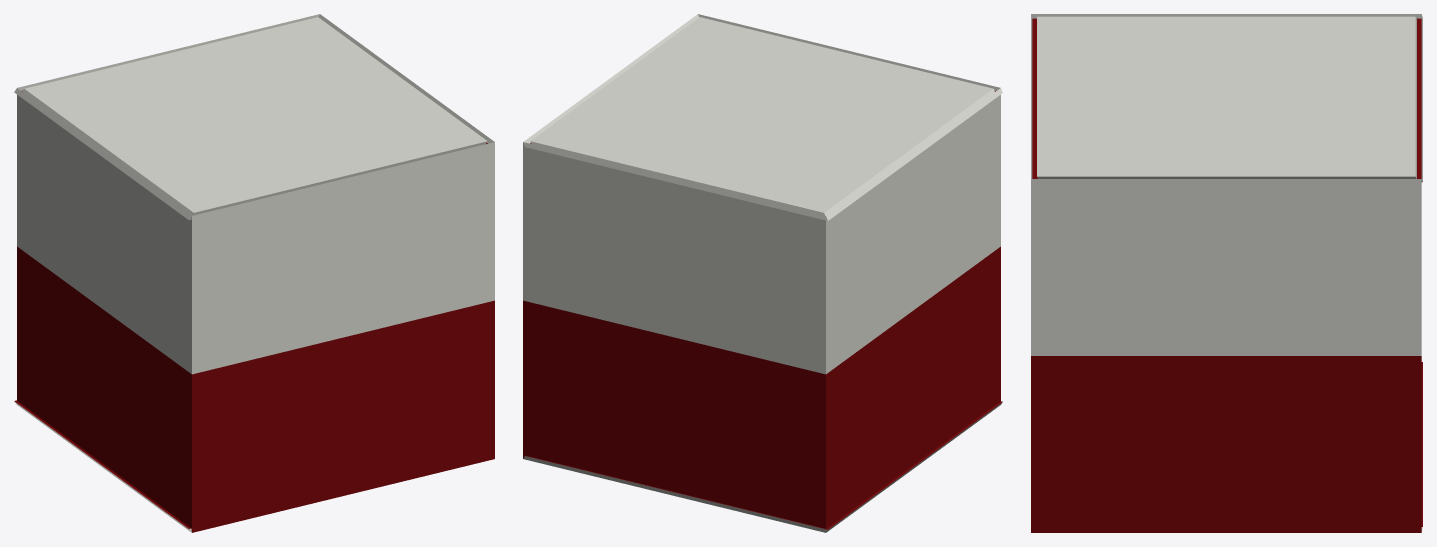
Rendered from keuken_GGJ.fbx.
3 views of the same model, side by side, from view 1: azimuth 30°, elevation 25°; view 2: azimuth 150°, elevation 25°; view 3: azimuth 270°, elevation 25° (orthographic). The views are drawn at different scales.
Parts seen in each view (by area): view 1: Cube; view 2: Cube; view 3: Cube.
Boxes of the visible parts, <box> form: Cube: <box>14,14,494,532</box>; Cube: <box>523,14,1002,532</box>; Cube: <box>1031,14,1422,532</box>.
Size of the model in its own units: 3515 by 3486 by 3496.
